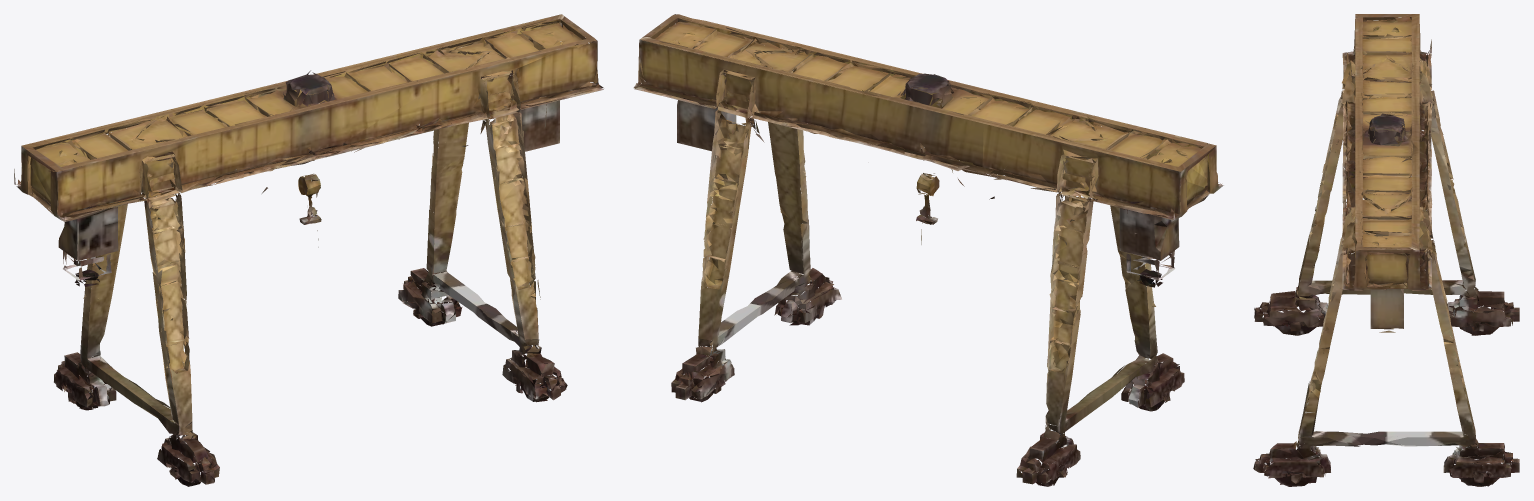
The model's file is prop_gantry_crane.glb.
3 views of the same model, side by side, from view 1: azimuth 30°, elevation 25°; view 2: azimuth 150°, elevation 25°; view 3: azimuth 270°, elevation 25° (orthographic). The views are drawn at different scales.
Visible parts, largest first — view 1: prop_gantry_crane; view 2: prop_gantry_crane; view 3: prop_gantry_crane.
Boxes of the visible parts, box(x1,y1,x2,y2) form: prop_gantry_crane: box(14, 14, 603, 486); prop_gantry_crane: box(633, 14, 1223, 486); prop_gantry_crane: box(1253, 14, 1519, 486).
Size of the model in its own units: 24.98 by 14.29 by 11.88.
1 material, 1 textured.
